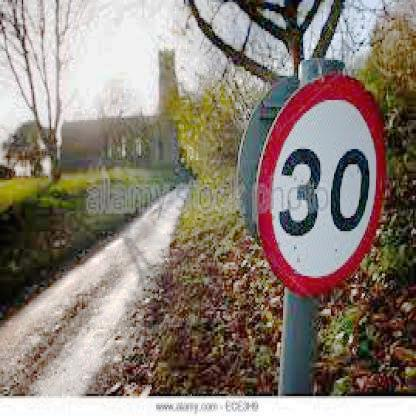Speed Limit -30-: (250, 76, 385, 292)
